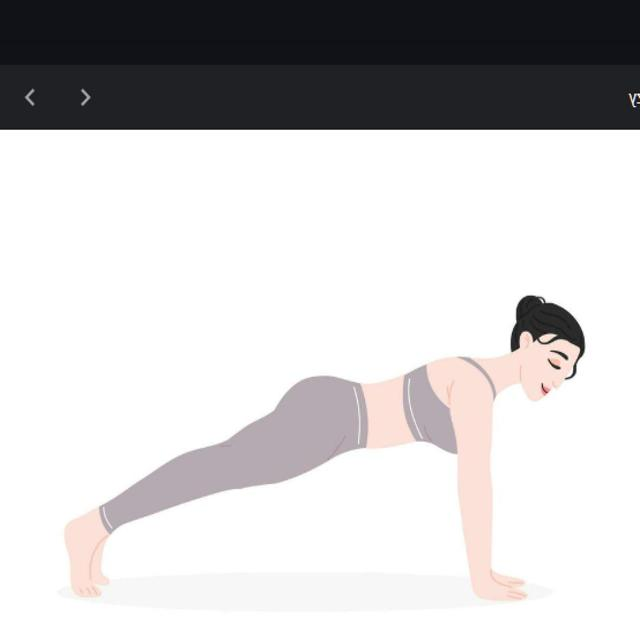Plank_Pose: (46, 284, 590, 610)
